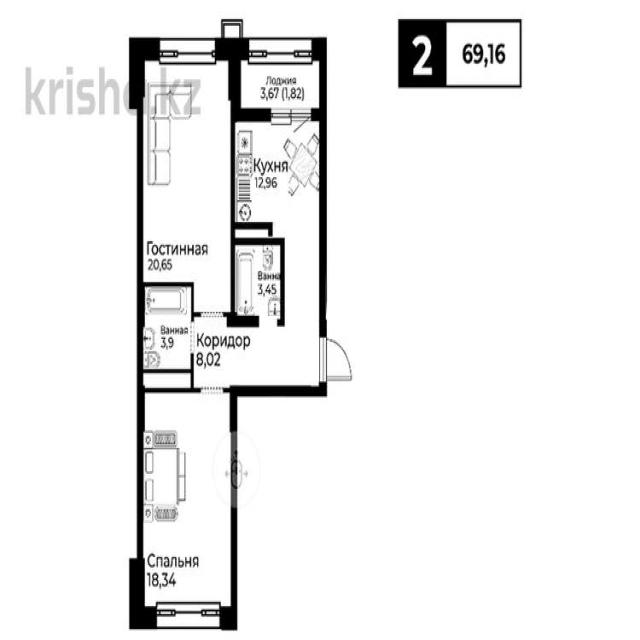bathroom: (144, 286, 191, 370), (242, 60, 319, 107), (235, 245, 281, 315)
hallway: (195, 243, 319, 388)
kitchen: (235, 122, 319, 239)
living_room: (144, 60, 231, 312), (145, 393, 230, 605)
